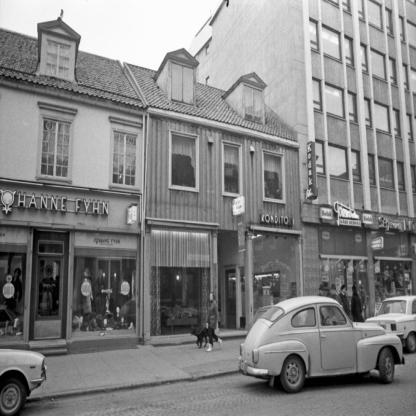Car: (238, 292, 405, 396), (1, 350, 47, 416), (366, 297, 416, 355)
